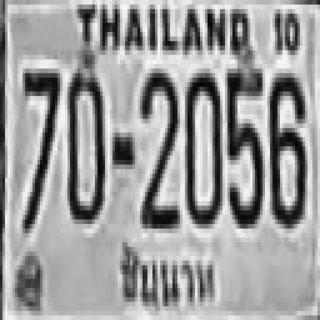N00: (65, 66, 102, 222), (184, 68, 219, 224)
N02: (140, 68, 178, 224)
N05: (225, 64, 262, 224)
N06: (268, 68, 305, 224)
N07: (20, 66, 58, 226)
P08: (113, 237, 220, 308)
